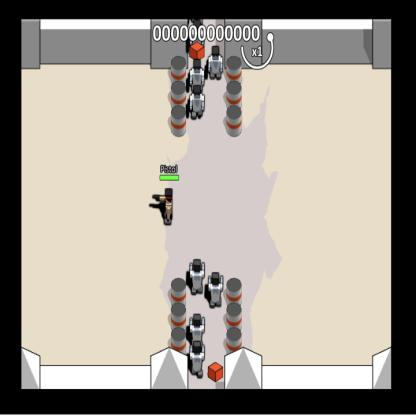agent: (162, 185, 174, 227)
jombie: (206, 268, 225, 311), (187, 257, 206, 296), (188, 340, 206, 378), (188, 86, 206, 122), (208, 43, 224, 82), (188, 311, 206, 340), (188, 57, 206, 85)
